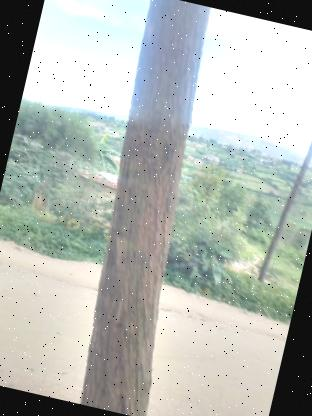tree: (46, 0, 250, 416)
